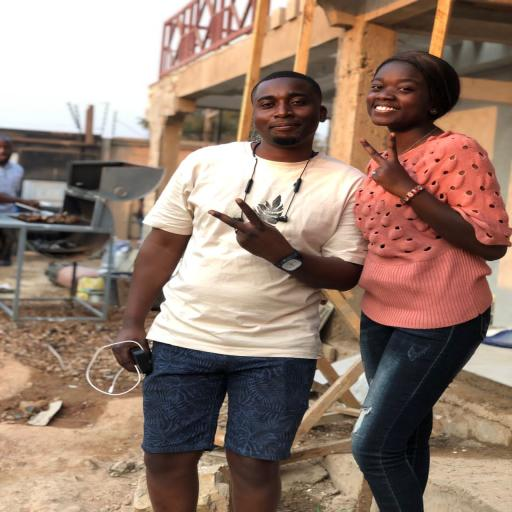LAURENE: (354, 43, 470, 134)
